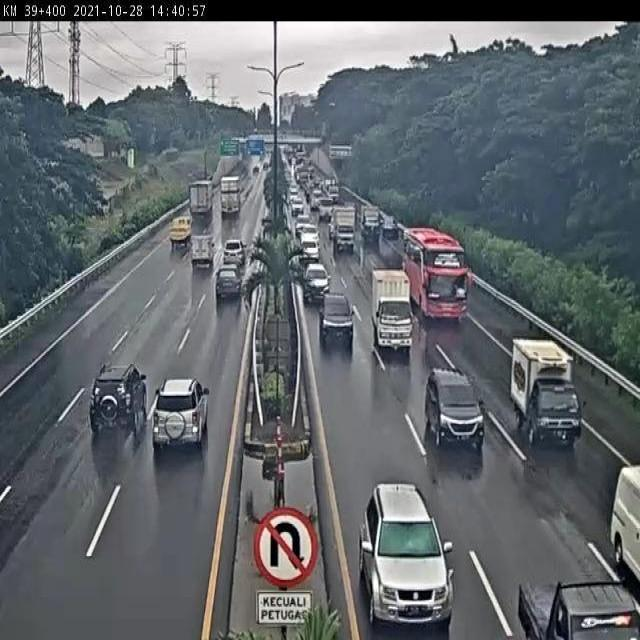car: (359, 483, 455, 631), (426, 367, 485, 449), (151, 379, 210, 452), (90, 363, 148, 432), (317, 291, 355, 347), (302, 260, 330, 305), (214, 263, 243, 301)
truck: (511, 333, 583, 447), (402, 227, 470, 321), (370, 268, 414, 349)
